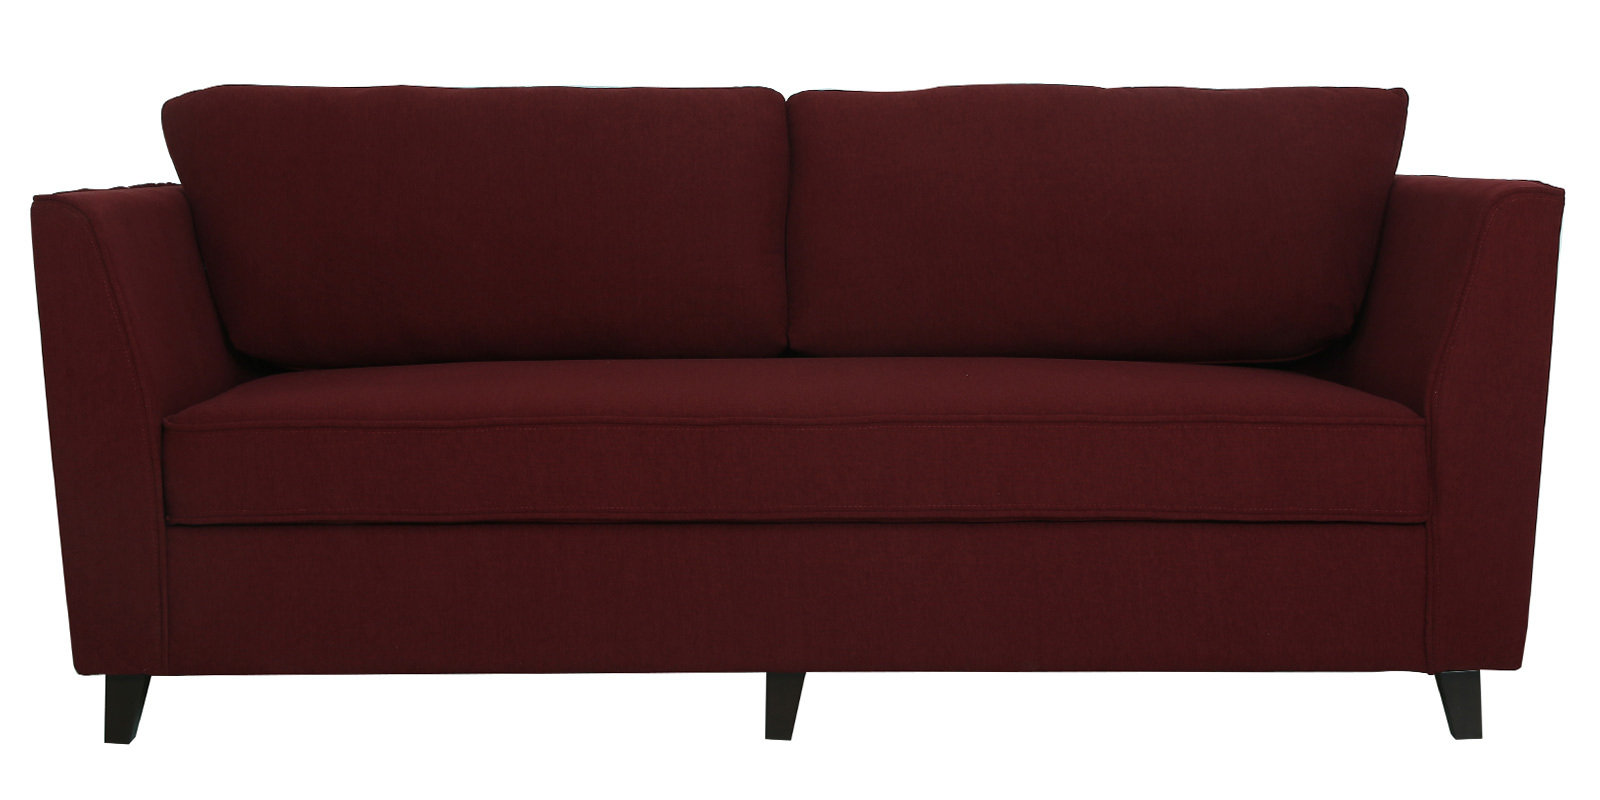Miranda Three Seater Sofa in Garnet Red Colour by CasaCraft: (30, 82, 1567, 747)
